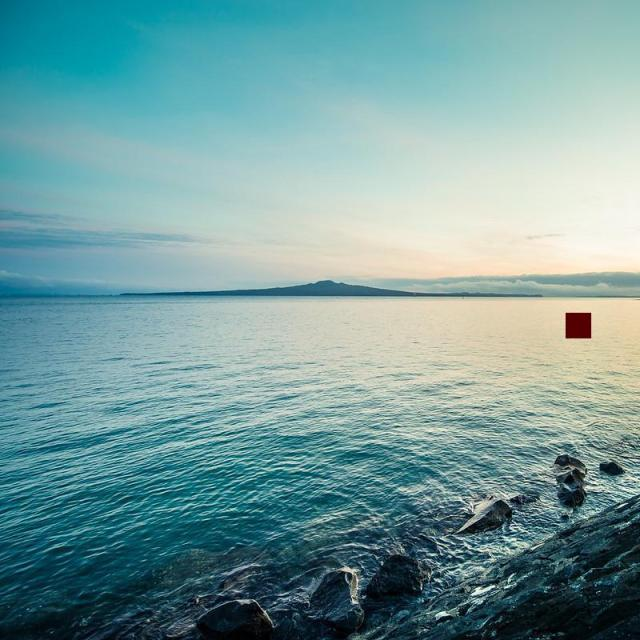RedSquare: (563, 308, 597, 342)
